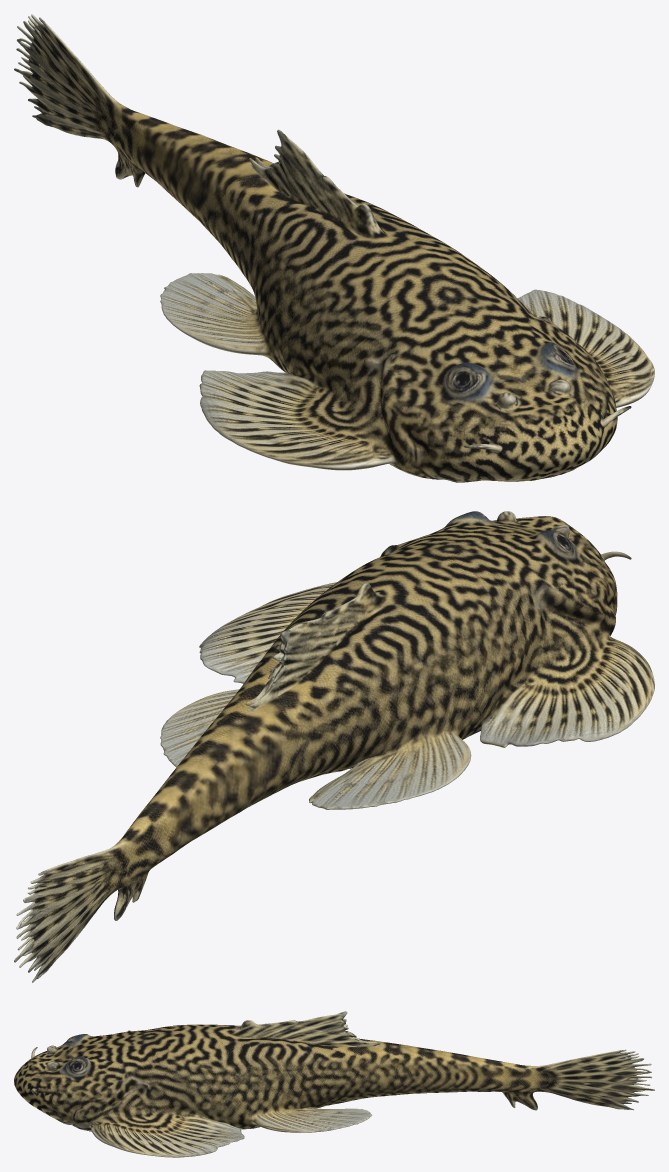
File: meshy_hillloach_texture.glb
The picture shows the model from 3 angles, top to bottom: view 1: azimuth 30°, elevation 25°; view 2: azimuth 150°, elevation 25°; view 3: azimuth 270°, elevation 25°; orthographic projection. The views are drawn at different scales.
Size of the model in its own units: 0.81 by 0.356 by 1.91.
Materials: 1 (1 with a texture image).
